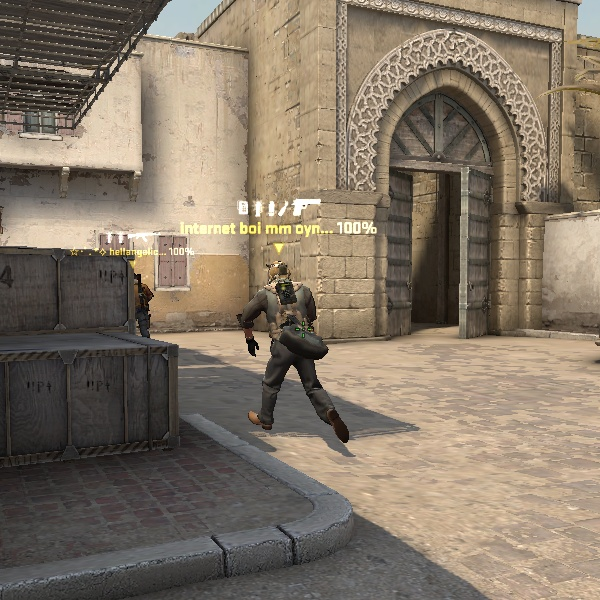t_body: (232, 262, 344, 437)
t_head: (259, 257, 298, 293)
